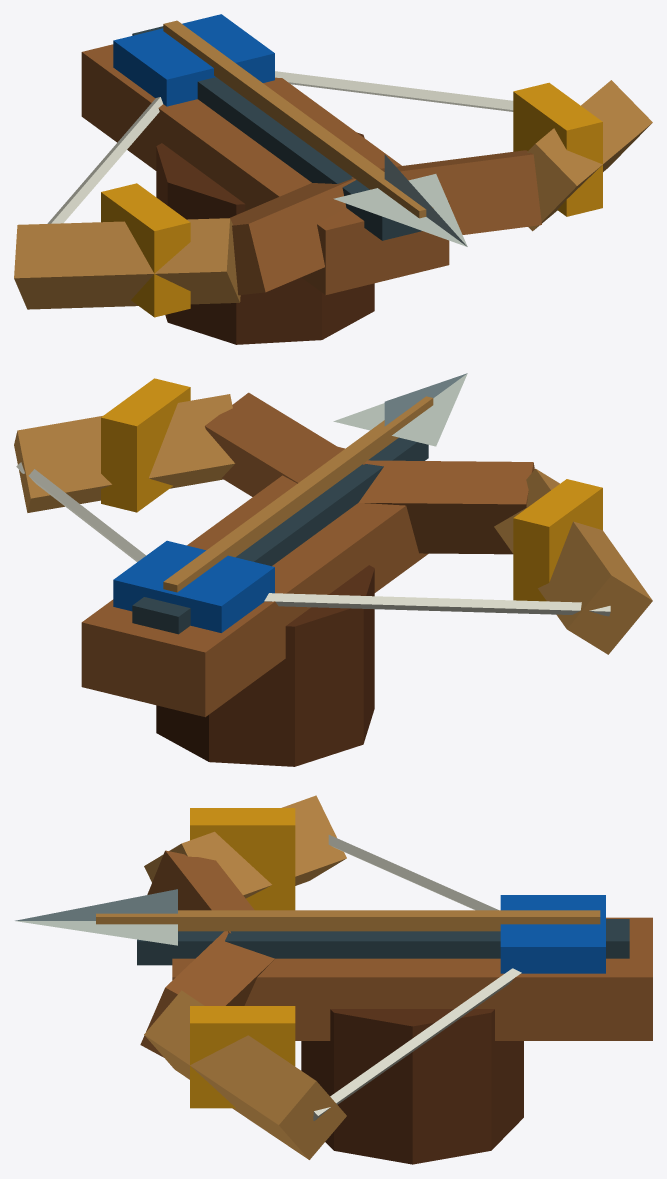
Rendered from crossbow.fbx.
3 views of the same model, one above another, from view 1: azimuth 30°, elevation 25°; view 2: azimuth 150°, elevation 25°; view 3: azimuth 270°, elevation 25° (orthographic).
Visible parts, largest first — view 1: crossbow; view 2: crossbow; view 3: crossbow.
Boxes of the visible parts, box(x1,y1,x2,y2) form: crossbow: box(14, 14, 652, 344); crossbow: box(14, 373, 652, 766); crossbow: box(15, 795, 652, 1164).
Bounding box in the file's own units: 1.24 × 0.43 × 1.09.
